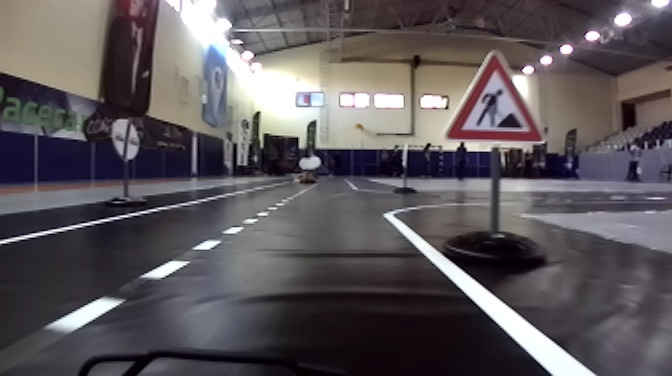yol_yapimi: (432, 48, 556, 145)
